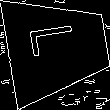L_E: (29, 28, 86, 67)
